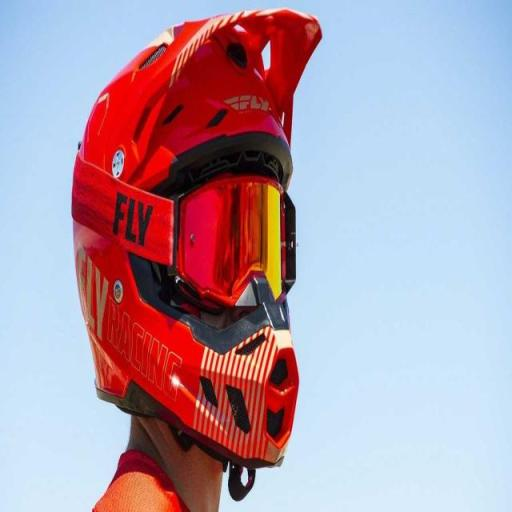Helmet: (72, 10, 320, 468)
